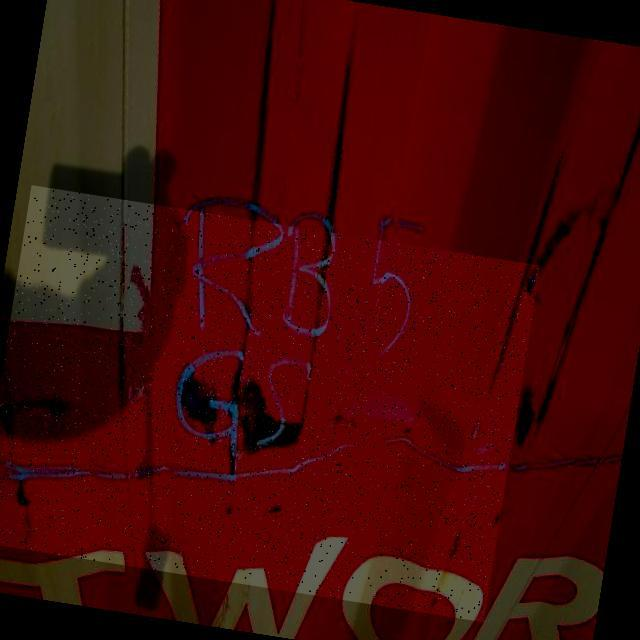Dent: (0, 185, 540, 622)
